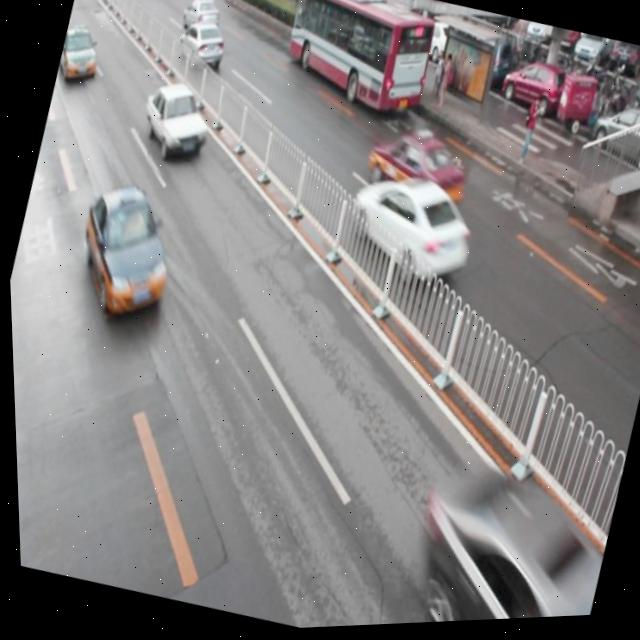car: (393, 456, 616, 627), (333, 162, 483, 300), (62, 173, 187, 326), (357, 122, 473, 224), (134, 75, 216, 164), (53, 22, 107, 90), (173, 17, 230, 74), (179, 0, 224, 40)
van: (272, 0, 442, 131)
